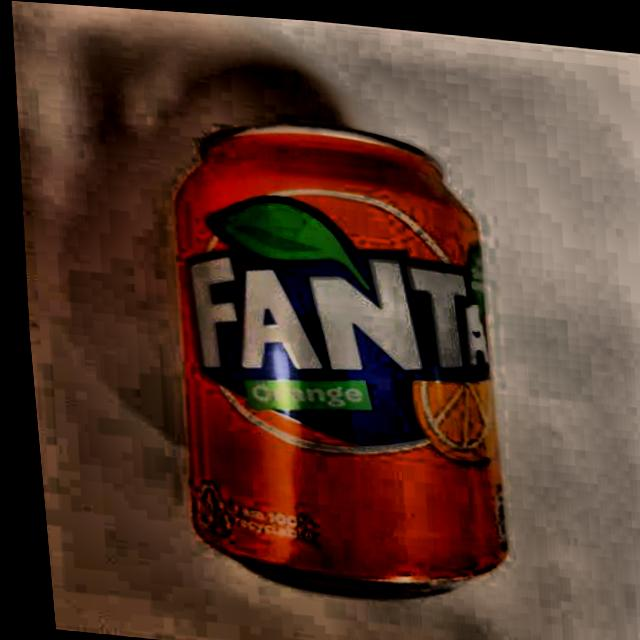Cans: (116, 104, 562, 629)
